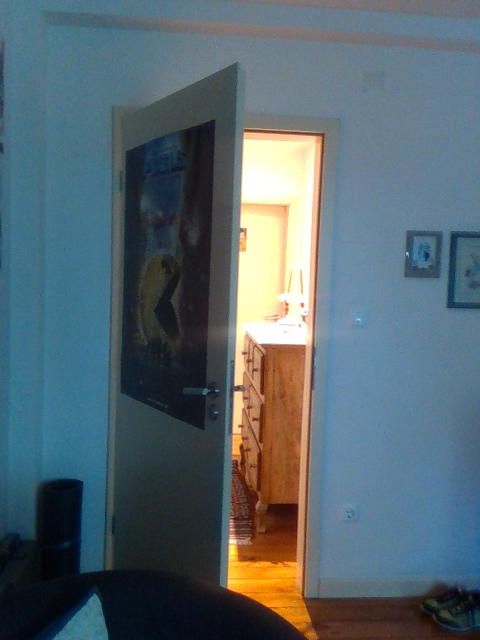semi: (97, 62, 341, 607)
